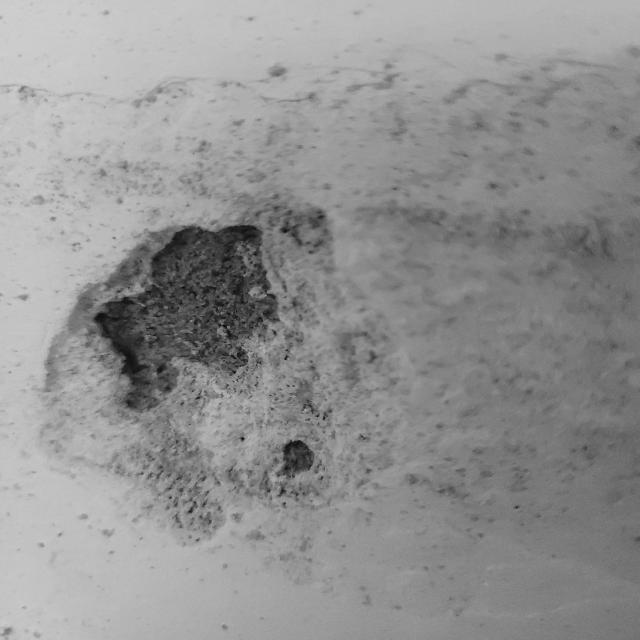rough and patchy surface: (13, 60, 631, 598)
